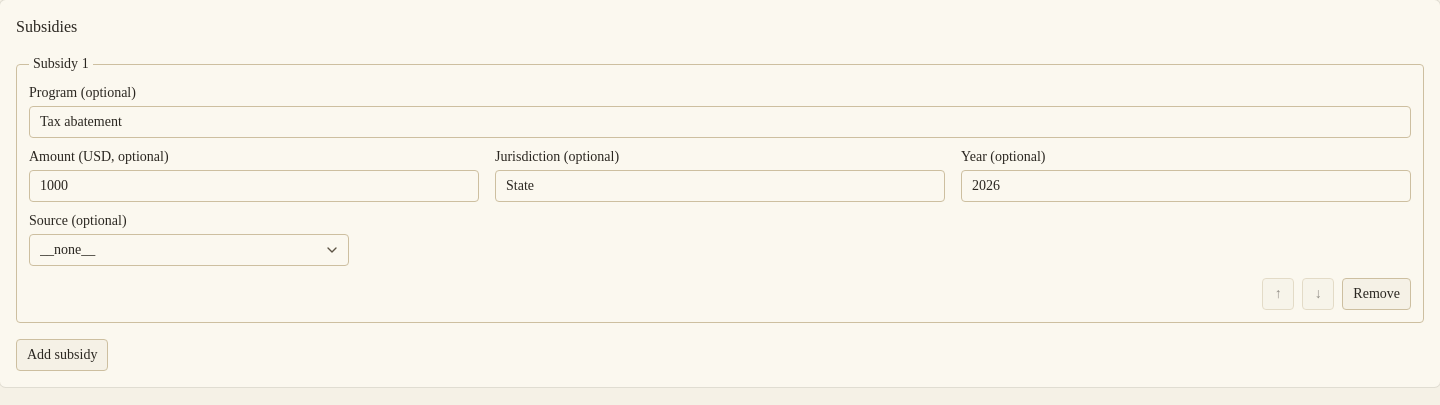
Test: FacilitySubsidiesSection › focus restoration after Remove (§1f) › moves focus to the Add button when the only remaining row is removed
Click the button with aria-label "remove subsidy 1". click: (1377,294)
box: [1342,278,1411,310]
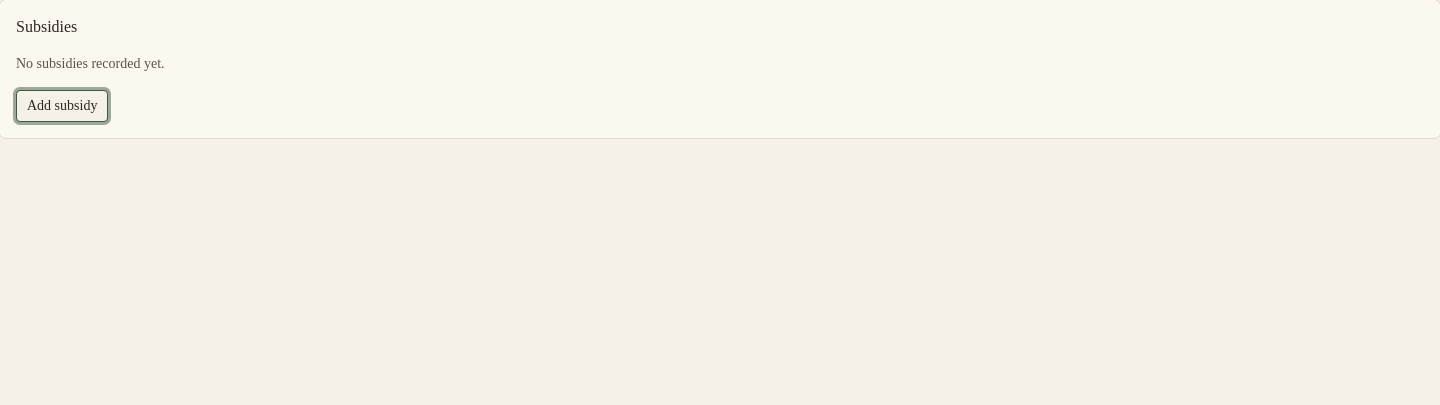
Expected: the text "No subsidies recorded yet." is shown, [16,56,164,71]
